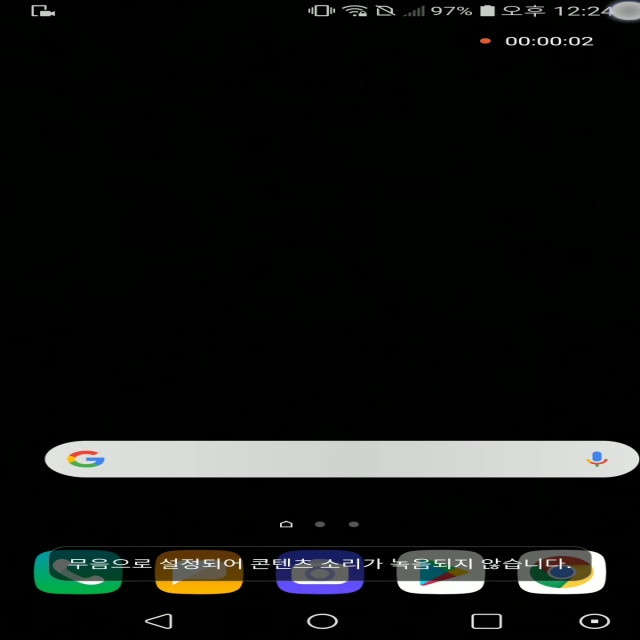Cursor: (605, 1, 640, 23)
